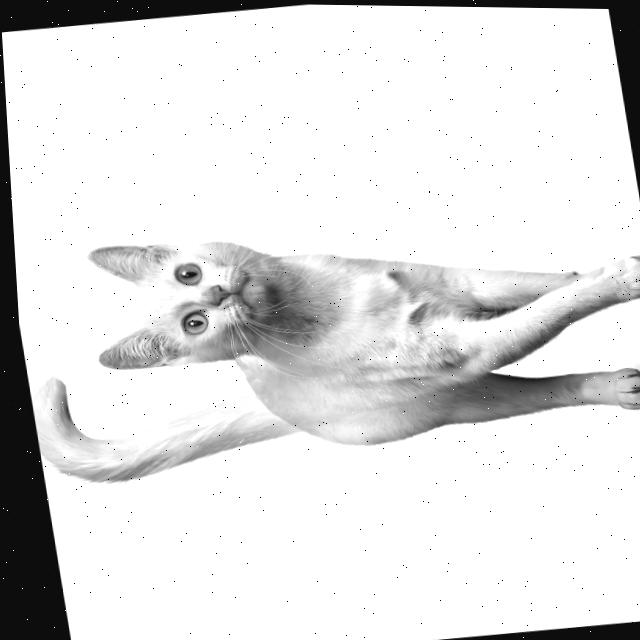Khao Manee: (9, 185, 640, 501)
